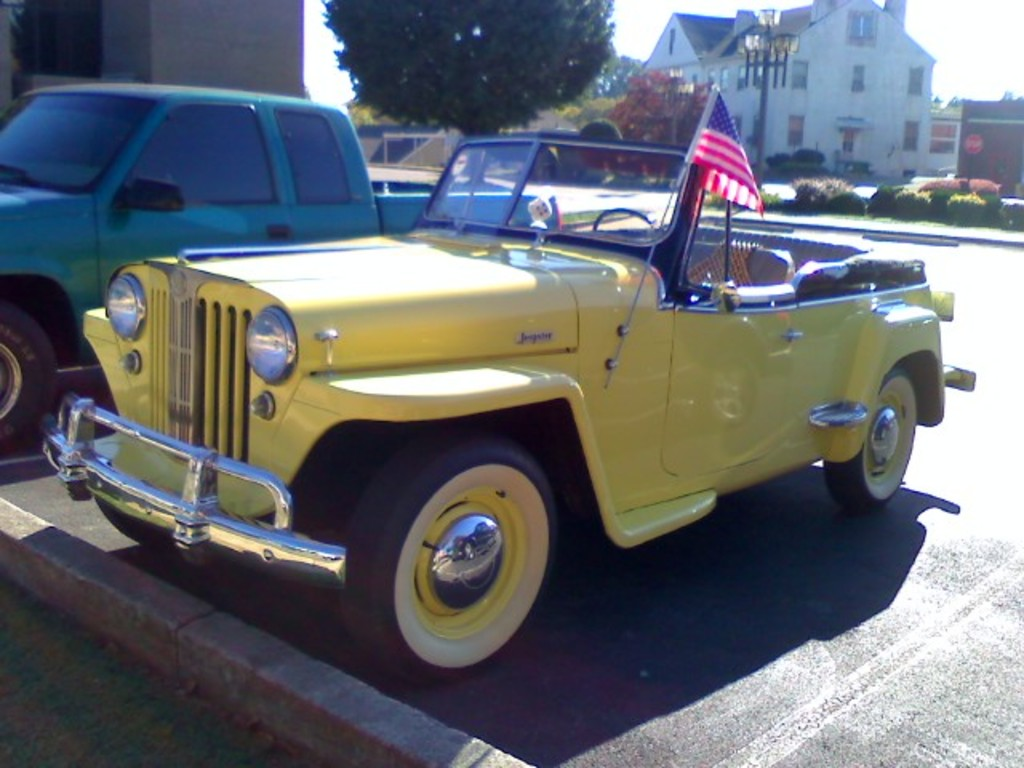Car: (36, 129, 972, 673)
